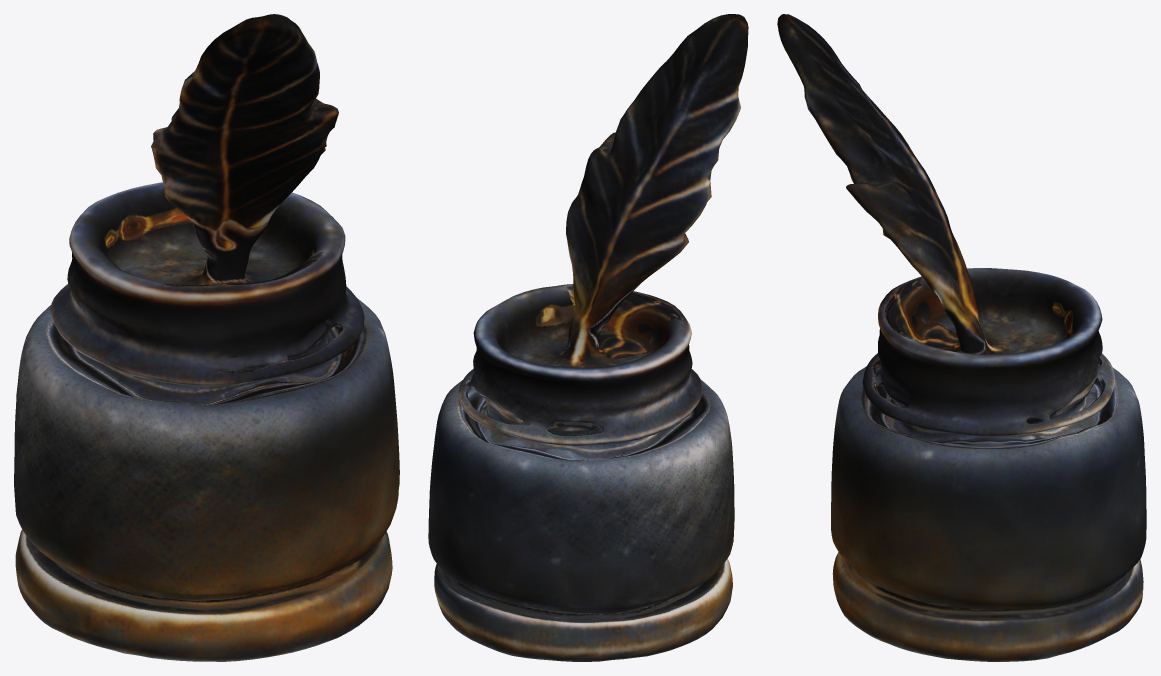
File: Quill.fbx
3 renders of one model, left to right at view 1: azimuth 30°, elevation 25°; view 2: azimuth 150°, elevation 25°; view 3: azimuth 270°, elevation 25°, orthographic. The views are drawn at different scales.
Visible parts, largest first — view 1: mesh; view 2: mesh; view 3: mesh.
Part boxes in pixels (bbox=[...]): mesh: bbox=[14, 14, 399, 661]; mesh: bbox=[428, 14, 748, 661]; mesh: bbox=[777, 14, 1146, 661].
Bounding box in the file's own units: 51.23 × 99.75 × 59.84.
